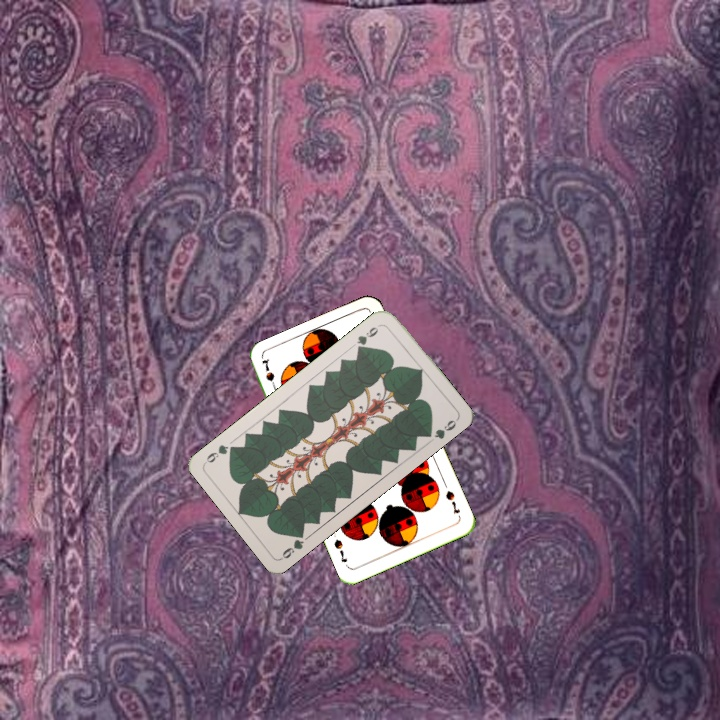G9: (352, 320, 384, 353), (277, 527, 307, 562)
S7: (258, 356, 280, 395), (442, 487, 463, 516)
